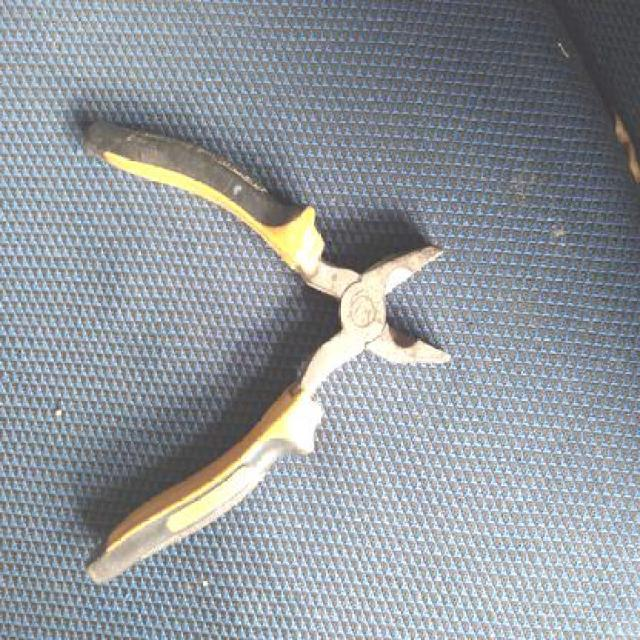pliers: (64, 115, 468, 591)
